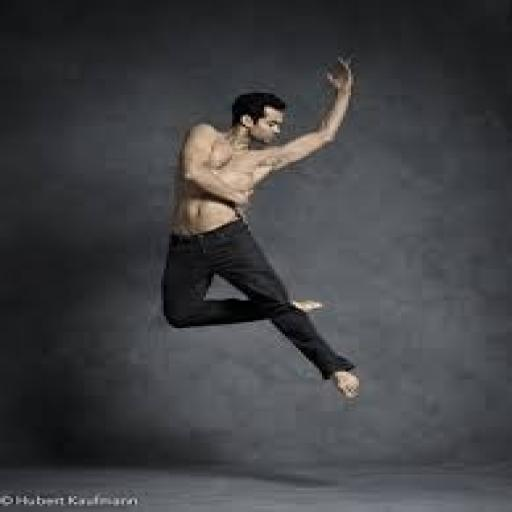dancing: (158, 54, 367, 404)
